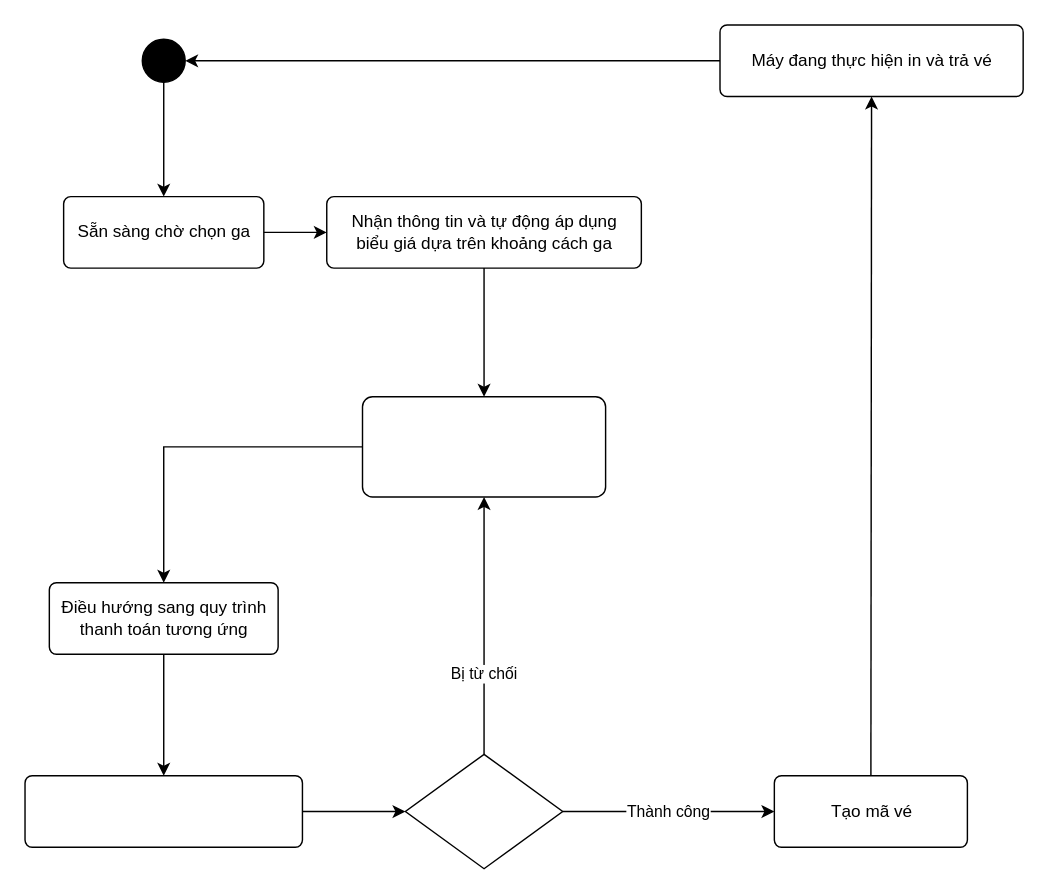
Image size: 1048x894. Some labels were removed from this diagram. Each missing label, with the box of its shape:
Giao dịch hợp lệ?: (404, 753, 563, 869)
Máy đang kết nối với cổng thanh toán, xác nhận giao dịch: (24, 774, 302, 847)
Máy đã tính xong tiền và đang chờ khách bấm chọn nút thanh toán: (361, 395, 606, 497)
